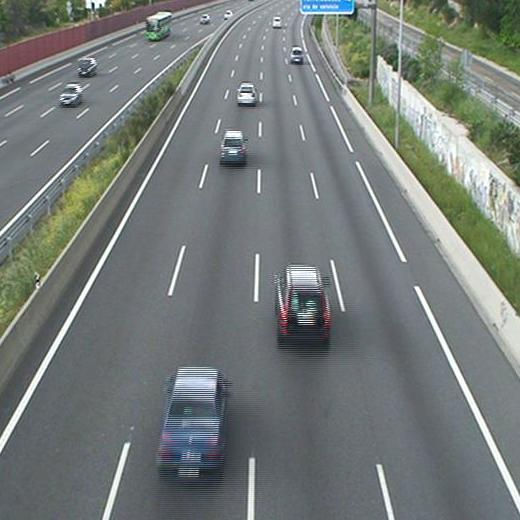cat: (159, 365, 229, 479), (273, 264, 332, 346), (219, 131, 248, 166), (236, 83, 258, 106), (289, 46, 304, 65)
